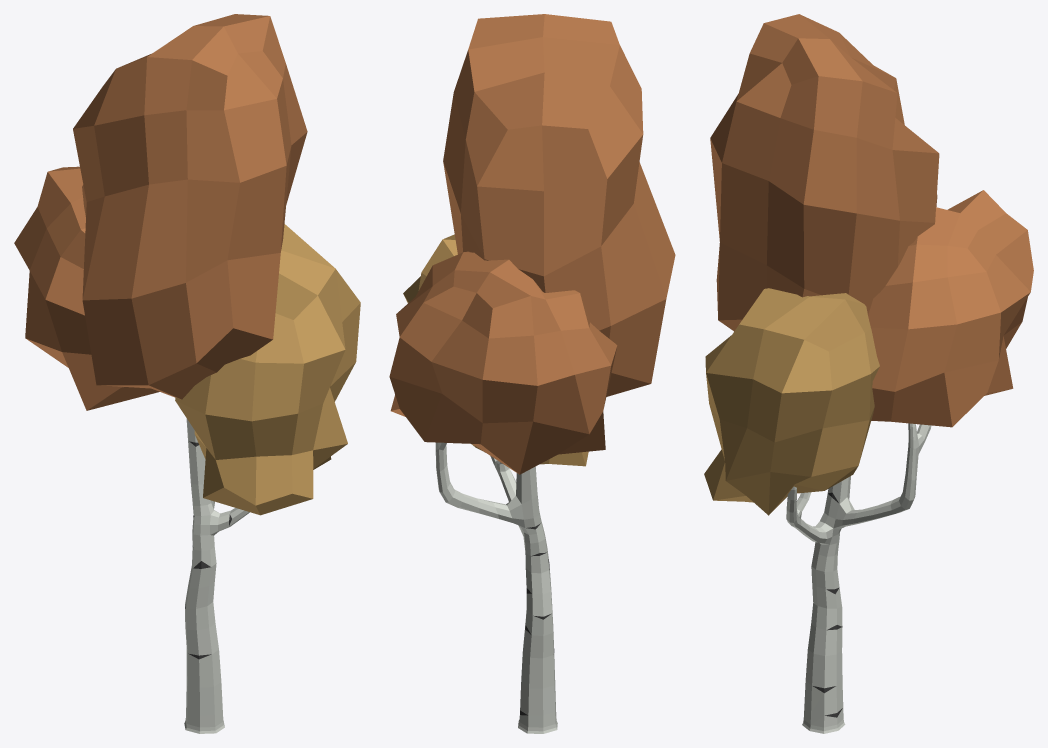
The model's file is BirchTree_Autumn_3.glb.
3 renders of one model, left to right at view 1: azimuth 30°, elevation 25°; view 2: azimuth 150°, elevation 25°; view 3: azimuth 270°, elevation 25°, orthographic. The views are drawn at different scales.
Parts seen in each view (by area): view 1: BirchTree_Autumn_3; view 2: BirchTree_Autumn_3; view 3: BirchTree_Autumn_3.
Part boxes in pixels (box(x1,y1,x2,y2)): BirchTree_Autumn_3: box(14, 14, 360, 733); BirchTree_Autumn_3: box(389, 14, 675, 733); BirchTree_Autumn_3: box(704, 14, 1033, 733).
Bounding box in the file's own units: 1.57 × 4.09 × 1.77.
